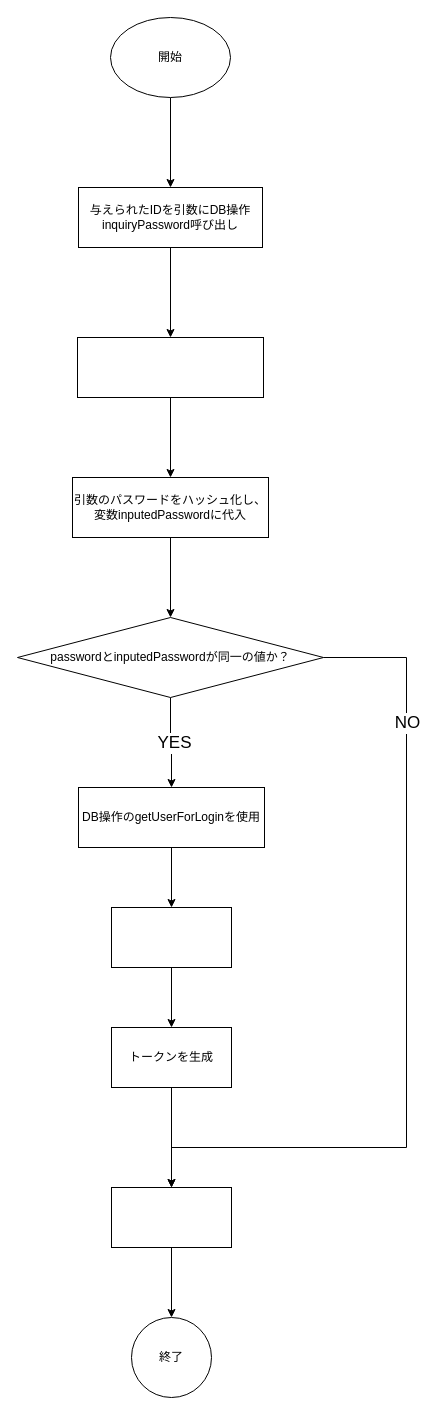
The diagram is 437 pixels wide and 1415 high, and some of its shapes have lost their labels. The shapes that lost their labels are listed below. From the top down, each one's box as (x1, y1, x2, y2) in pixels, then its label:
(76, 336, 264, 398): 変数passwordにinquiryPasswordで取得したパスワードを代入
(110, 906, 232, 968): Userインスタンスを作成
(110, 1186, 232, 1248): メッセージを送信
